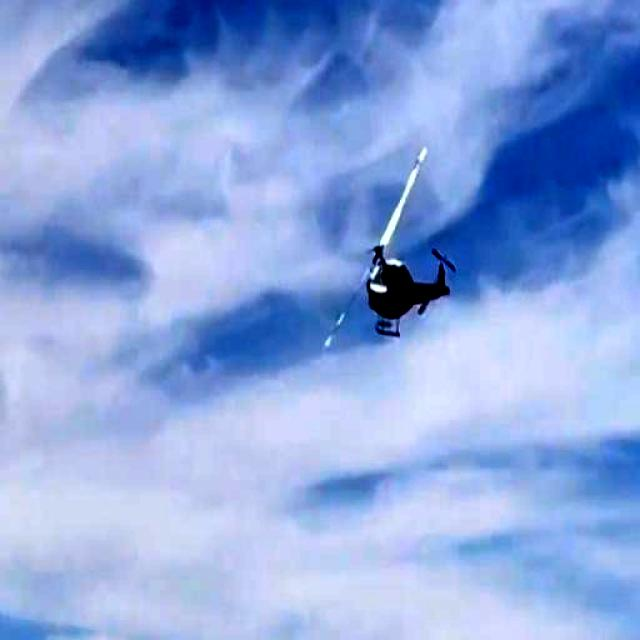drone: (306, 129, 458, 372)
